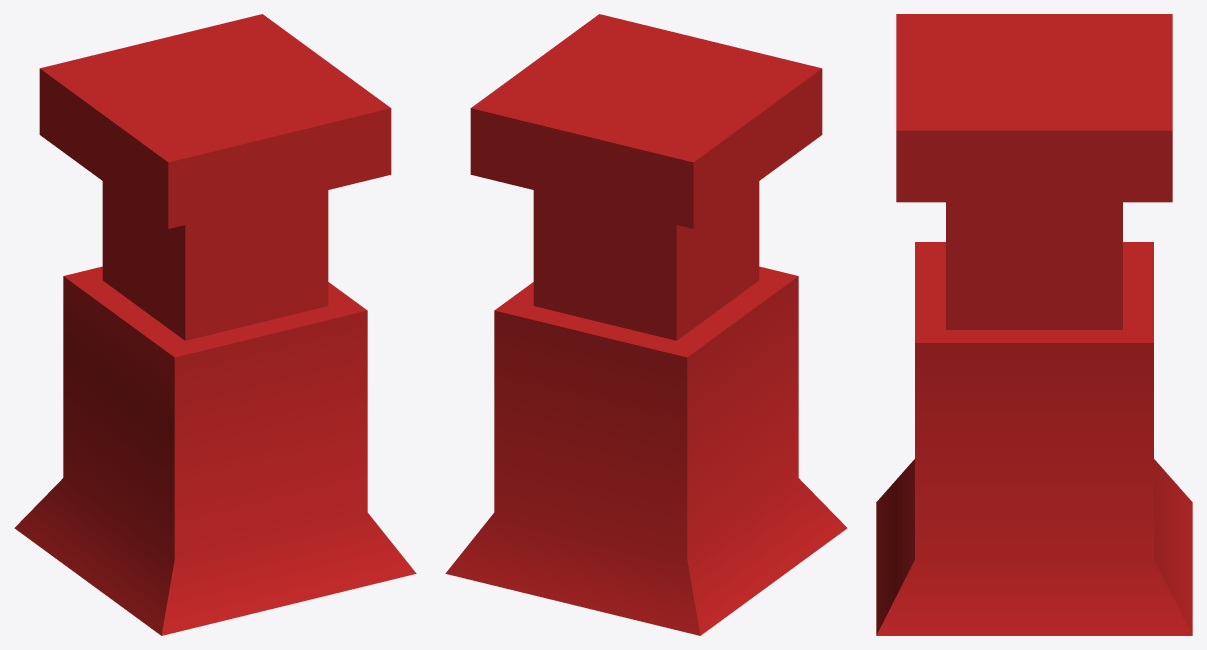
File: roof_top_statue_F.fbx
The picture shows the model from 3 angles, left to right: view 1: azimuth 30°, elevation 25°; view 2: azimuth 150°, elevation 25°; view 3: azimuth 270°, elevation 25°; orthographic projection. The views are drawn at different scales.
Parts seen in each view (by area): view 1: roof_top_statue_F; view 2: roof_top_statue_F; view 3: roof_top_statue_F.
Part boxes in pixels (bbox=[...]): roof_top_statue_F: bbox=[14, 14, 416, 635]; roof_top_statue_F: bbox=[445, 14, 847, 635]; roof_top_statue_F: bbox=[876, 14, 1192, 635].
Bounding box in the file's own units: 20.44 × 35.43 × 20.44.
